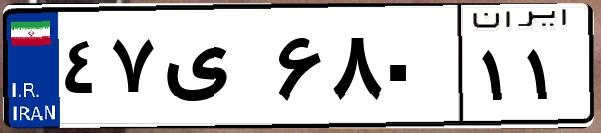0: (385, 28, 445, 110)
1: (475, 38, 525, 113), (525, 38, 570, 115)
4: (57, 26, 110, 100)
6: (270, 28, 330, 110)
7: (110, 28, 158, 98)
8: (330, 28, 385, 110)
ی: (158, 20, 270, 120)
